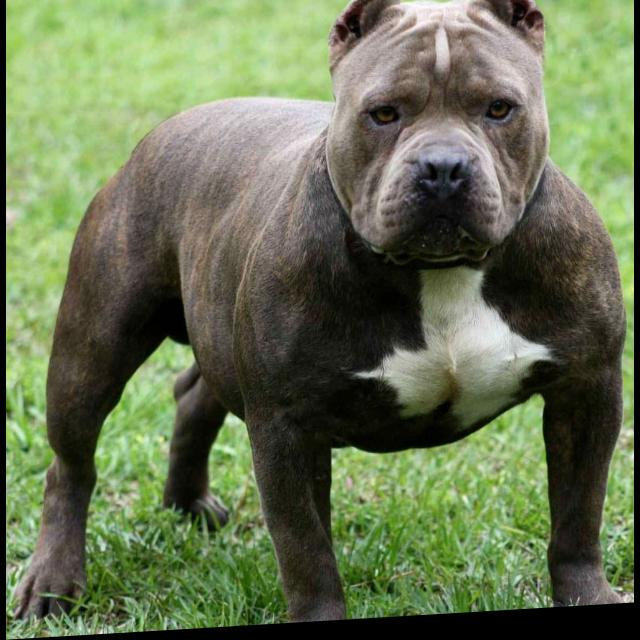am_pit_bull_terrier: (11, 1, 631, 640)
